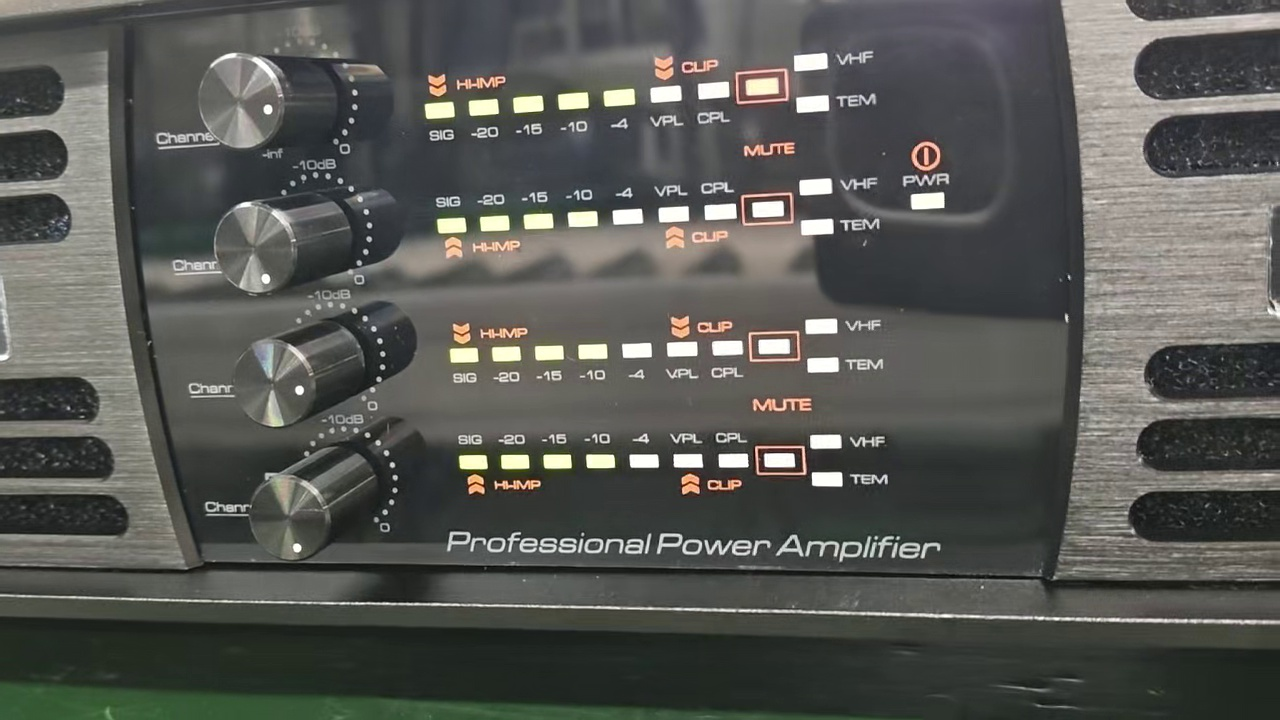FP_CPL: (708, 334, 749, 390), (693, 76, 733, 133), (698, 175, 741, 226), (714, 421, 750, 477)
FP_PWR: (896, 171, 958, 213)
FP_PWR_area: (891, 126, 963, 220)
FP_SIG_area: (423, 44, 893, 143), (431, 173, 880, 261), (452, 421, 893, 506), (440, 311, 890, 389)
FP_VPL: (646, 80, 687, 135), (650, 177, 692, 225), (664, 337, 702, 388), (668, 423, 705, 473)
